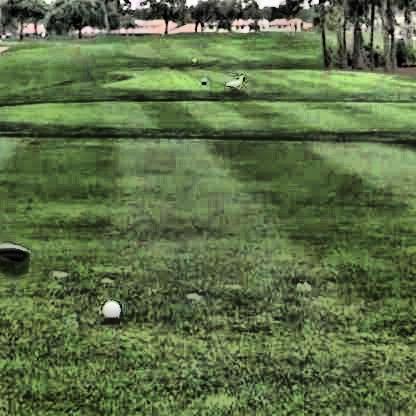golfball: (98, 296, 119, 317)
